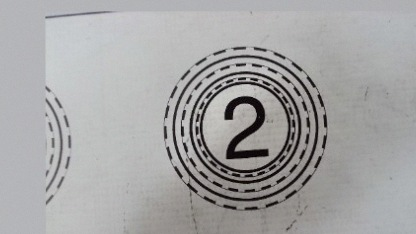2r: (160, 46, 330, 210)
